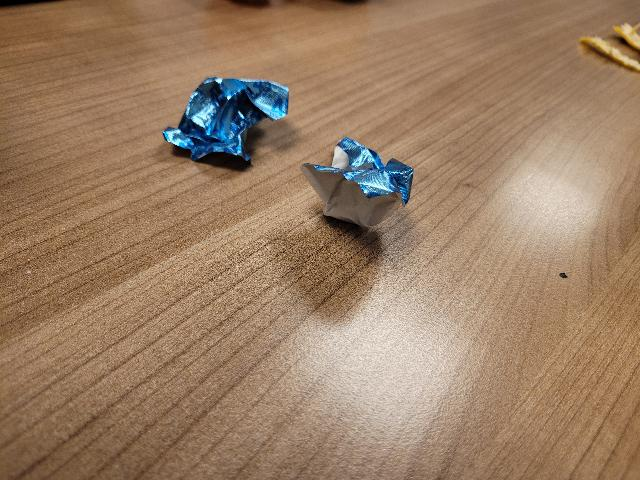Kagit: (160, 79, 293, 172), (303, 137, 414, 233)
